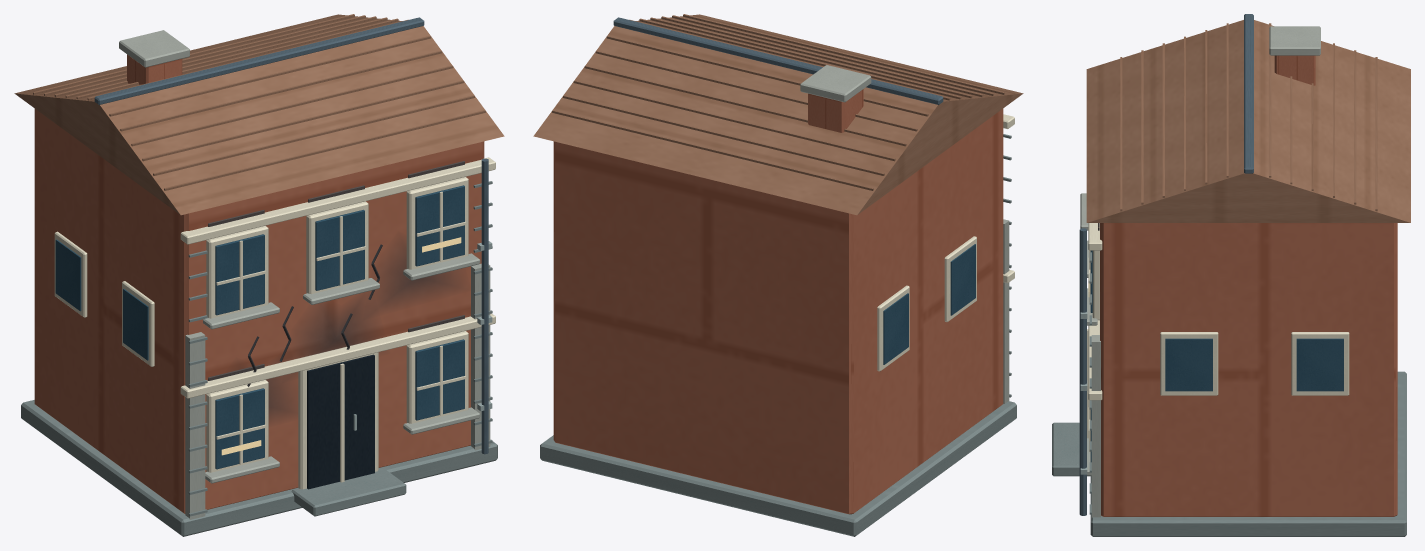
File: row-house-scorched.glb
3 views of the same model, side by side, from view 1: azimuth 30°, elevation 25°; view 2: azimuth 150°, elevation 25°; view 3: azimuth 270°, elevation 25° (orthographic). The views are drawn at different scales.
Parts seen in each view (by area): view 1: row-house-scorched; view 2: row-house-scorched; view 3: row-house-scorched.
Boxes of the visible parts, <box> form: row-house-scorched: <box>14,14,504,536</box>; row-house-scorched: <box>533,14,1023,536</box>; row-house-scorched: <box>1052,14,1410,536</box>.
Bounding box in the file's own units: 5.54 × 6.46 × 5.42.
Materials: 5 (5 with a texture image).
